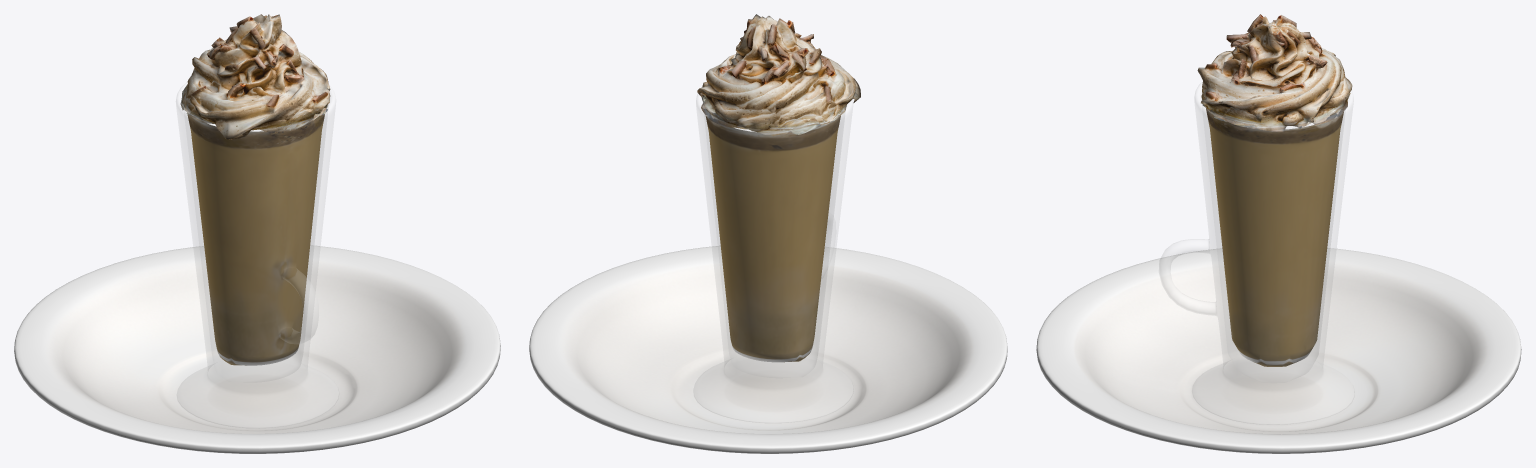
Rendered from Nuttella_Latte-v1.glb.
3 renders of one model, left to right at view 1: azimuth 30°, elevation 25°; view 2: azimuth 150°, elevation 25°; view 3: azimuth 270°, elevation 25°, orthographic.
Parts seen in each view (by area): view 1: Object008, Object009; view 2: Object008, Object009; view 3: Object008, Object009.
Boxes of the visible parts, x1=… form: Object008: x1=14, y1=14, x2=500, y2=453; Object009: x1=176, y1=82, x2=338, y2=427; Object008: x1=529, y1=14, x2=1007, y2=453; Object009: x1=693, y1=94, x2=853, y2=422; Object008: x1=1036, y1=14, x2=1521, y2=453; Object009: x1=1159, y1=83, x2=1354, y2=424.
Size of the model in its own units: 12.92 by 11.56 by 12.92.
Materials: 2 (1 with a texture image).
